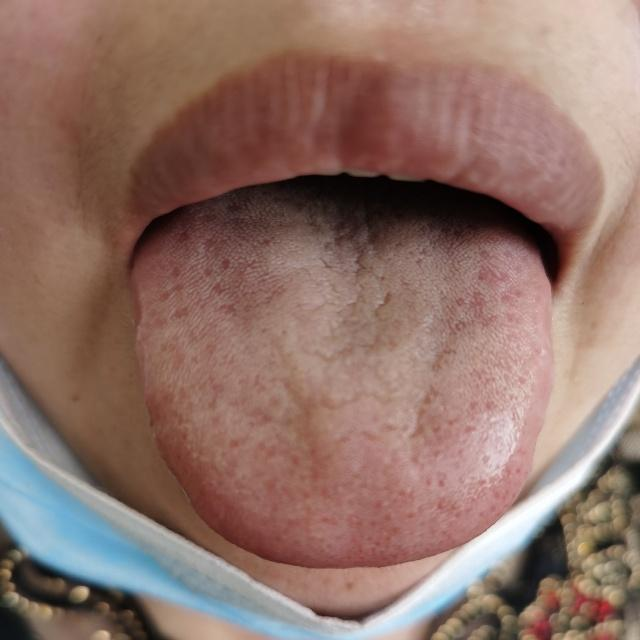baitaishe: (133, 218, 555, 568)
pangdashe: (132, 217, 554, 567)
